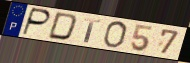5: (130, 23, 155, 52)
7: (159, 29, 179, 55)
D: (46, 12, 79, 42)
O: (102, 21, 129, 49)
P: (21, 7, 52, 37)
T: (83, 17, 102, 44)
